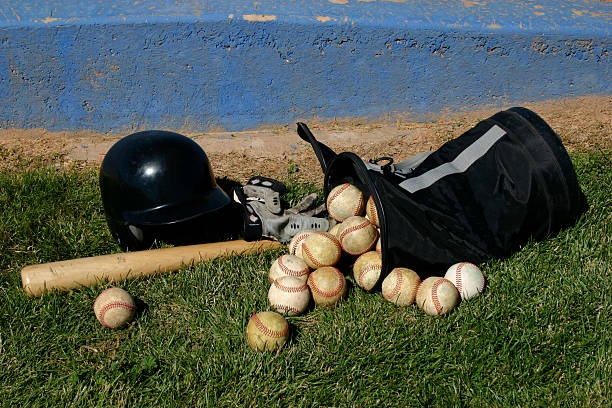bita: (23, 226, 297, 303)
